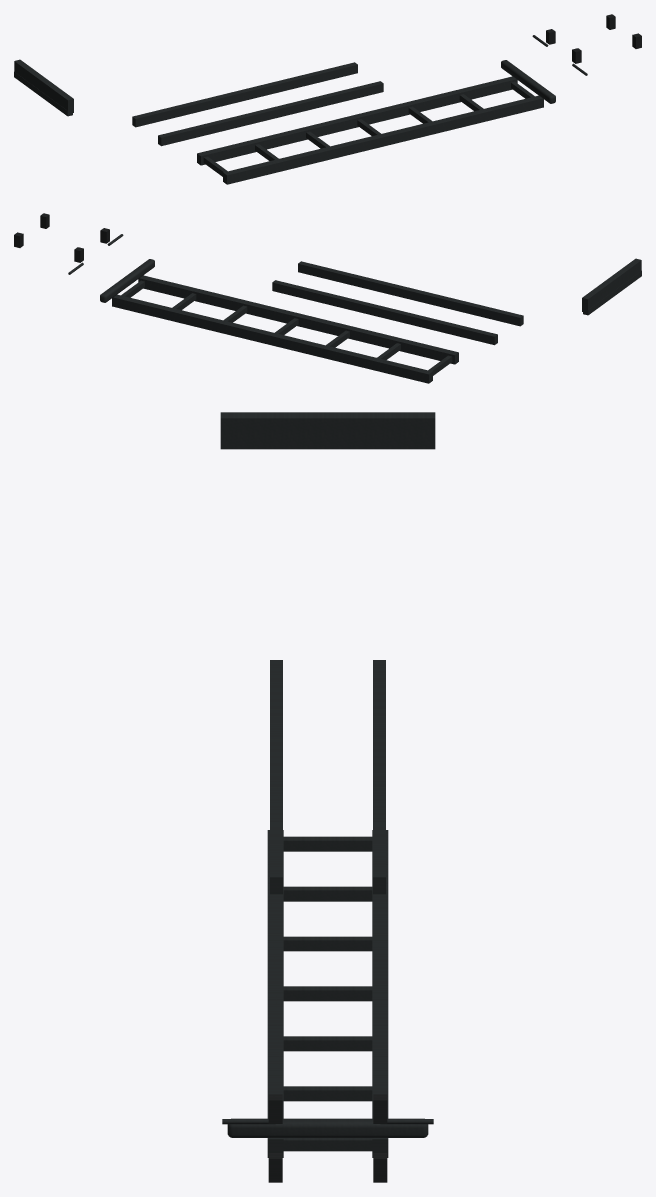
The model's file is chassis.glb.
3 views of the same model, one above another, from view 1: azimuth 30°, elevation 25°; view 2: azimuth 150°, elevation 25°; view 3: azimuth 270°, elevation 25° (orthographic). The views are drawn at different scales.
Parts seen in each view (by area): view 1: Chassis longitudinal boxed rail -1, Chassis longitudinal boxed rail 1, Refuse body chassis mounting runner -1, Refuse body chassis mounting runner 1, Rear lamp seated mounting transom, Seated rounded front bumper, Rear seated transverse bumper; view 2: Chassis longitudinal boxed rail 1, Chassis longitudinal boxed rail -1, Refuse body chassis mounting runner -1, Refuse body chassis mounting runner 1, Rear lamp seated mounting transom, Seated rounded front bumper, Rear seated transverse bumper; view 3: Rear lamp seated mounting transom, Chassis longitudinal boxed rail -1, Chassis longitudinal boxed rail 1, Seated rounded front bumper, Refuse body chassis mounting runner -1, Refuse body chassis mounting runner 1, Chassis seated crossmember 0, Chassis seated crossmember 1, Chassis seated crossmember 3, Chassis seated crossmember 4, Chassis seated crossmember 5, Chassis seated crossmember 2 (+1 smaller).
Part boxes in pixels (x1=…): Chassis longitudinal boxed rail -1: x1=223, y1=95, x2=543, y2=184; Chassis longitudinal boxed rail 1: x1=197, y1=76, x2=517, y2=165; Refuse body chassis mounting runner -1: x1=158, y1=81, x2=383, y2=146; Refuse body chassis mounting runner 1: x1=132, y1=62, x2=357, y2=127; Rear lamp seated mounting transom: x1=14, y1=59, x2=73, y2=113; Seated rounded front bumper: x1=501, y1=60, x2=555, y2=103; Rear seated transverse bumper: x1=14, y1=72, x2=72, y2=116; Chassis longitudinal boxed rail 1: x1=112, y1=294, x2=432, y2=383; Chassis longitudinal boxed rail -1: x1=138, y1=275, x2=458, y2=364; Refuse body chassis mounting runner -1: x1=298, y1=261, x2=523, y2=326; Refuse body chassis mounting runner 1: x1=272, y1=280, x2=497, y2=345; Rear lamp seated mounting transom: x1=582, y1=258, x2=641, y2=312; Seated rounded front bumper: x1=100, y1=259, x2=154, y2=302; Rear seated transverse bumper: x1=583, y1=271, x2=641, y2=315; Rear lamp seated mounting transom: x1=220, y1=412, x2=435, y2=445; Chassis longitudinal boxed rail -1: x1=267, y1=830, x2=283, y2=1157; Chassis longitudinal boxed rail 1: x1=372, y1=830, x2=388, y2=1157; Seated rounded front bumper: x1=227, y1=1118, x2=428, y2=1137; Refuse body chassis mounting runner -1: x1=270, y1=660, x2=282, y2=894; Refuse body chassis mounting runner 1: x1=373, y1=660, x2=385, y2=894; Chassis seated crossmember 0: x1=283, y1=836, x2=372, y2=851; Chassis seated crossmember 1: x1=283, y1=886, x2=372, y2=901; Chassis seated crossmember 3: x1=283, y1=986, x2=372, y2=1001; Chassis seated crossmember 4: x1=283, y1=1036, x2=372, y2=1051; Chassis seated crossmember 5: x1=283, y1=1086, x2=372, y2=1101; Chassis seated crossmember 2: x1=283, y1=936, x2=372, y2=951.
Size of the model in its own units: 14.49 by 3.18 by 2.3.
Materials: 2 (2 with a texture image).
